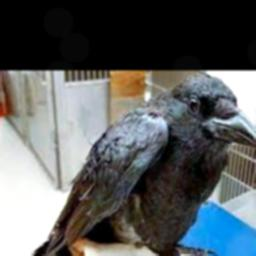Crow: (23, 74, 256, 256)
